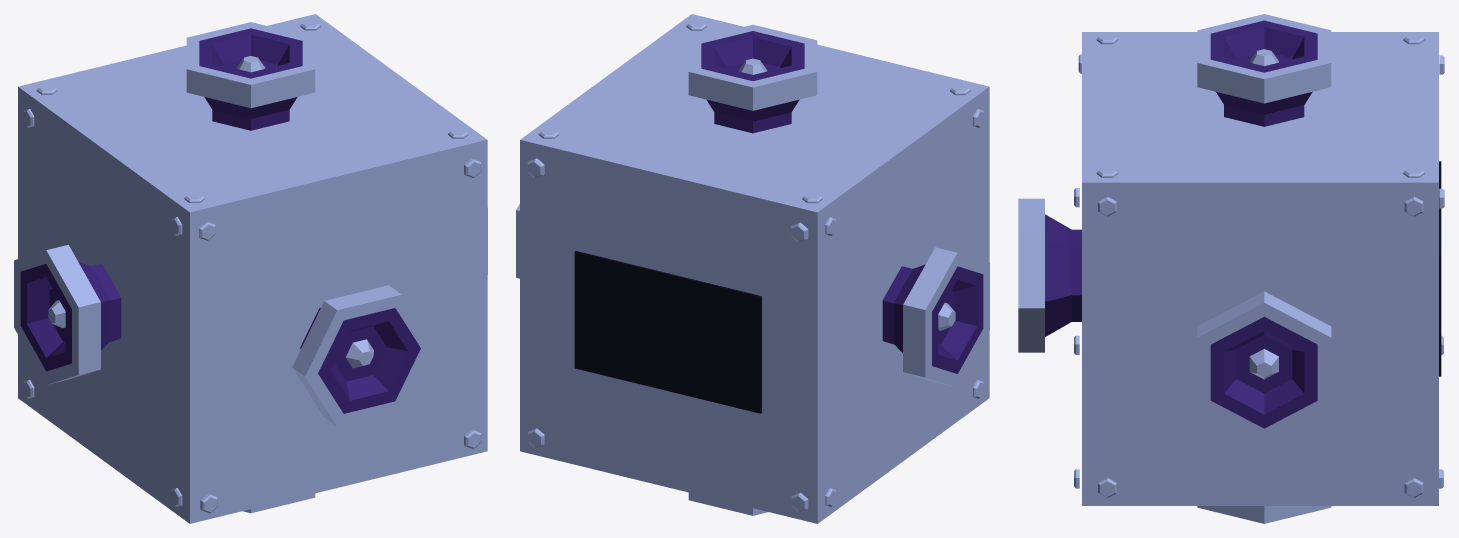
Rendered from ship_exterior_03.glb.
3 renders of one model, left to right at view 1: azimuth 30°, elevation 25°; view 2: azimuth 150°, elevation 25°; view 3: azimuth 270°, elevation 25°, orthographic. The views are drawn at different scales.
Parts seen in each view (by area): view 1: block, engine_turbine (×3); view 2: block (×2), engine_turbine (×3); view 3: block (×2), engine_turbine (×4).
Boxes of the visible parts, left/top/right/bottom form: block: left=18, top=14, right=487, bottom=523; engine_turbine (×3): left=14, top=22, right=433, bottom=426; block (×2): left=520, top=14, right=989, bottom=523; engine_turbine (×3): left=688, top=24, right=989, bottom=515; block (×2): left=1082, top=32, right=1441, bottom=505; engine_turbine (×4): left=1018, top=14, right=1331, bottom=523.
Size of the model in its own units: 2.64 by 2.64 by 2.3.
